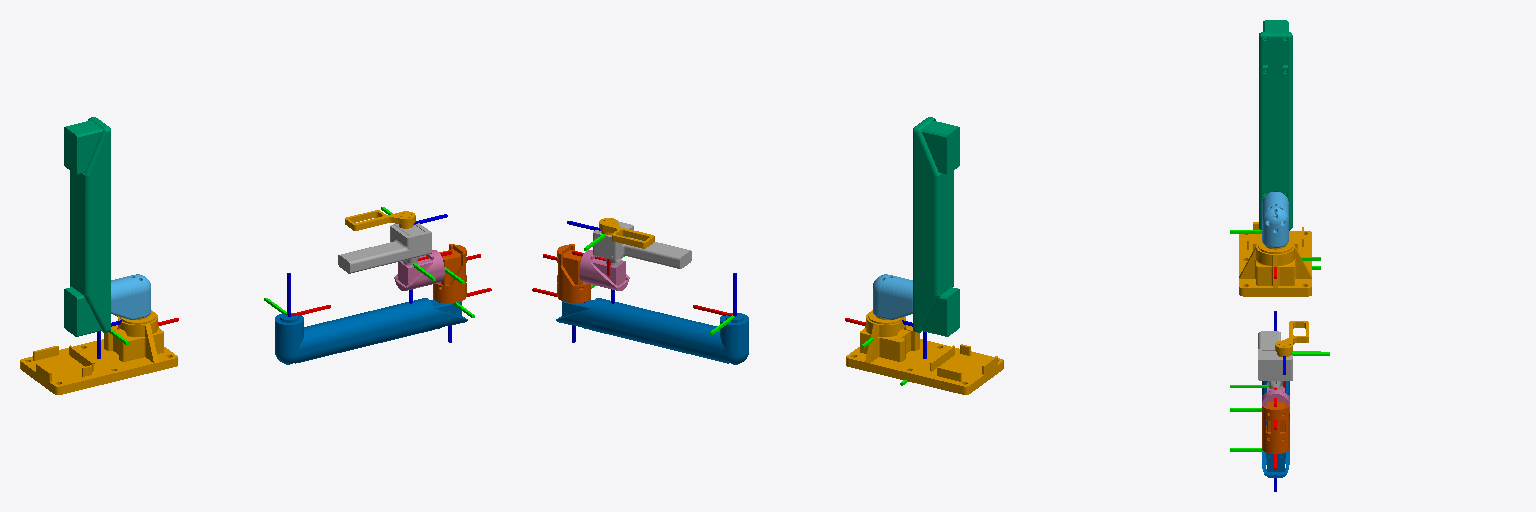
robot.urdf — GELLO_Assembly_URDF_V4:
<?xml version='1.0' encoding='utf-8'?>
<robot 
    name="GELLO_Assembly_URDF_V4">
    <!-- Debug visuals: small XYZ axes on each link frame (X=red, Y=green, Z=blue) -->
    <material name="frame_x_red">
        <color rgba="1 0 0 1" />
    </material>
    <material name="frame_y_green">
        <color rgba="0 1 0 1" />
    </material>
    <material name="frame_z_blue">
        <color rgba="0 0 1 1" />
    </material>
    <link name="base_link">
        <inertial>
            <origin 
                xyz="0.012101145839417736 4.5485259978825654e-05 0.012837746339482453" 
                rpy="0.0 0.0 0.0" />
            <mass 
                value="0.1521" />
            <inertia 
                ixx="0.000787615441049584" 
                iyy="0.0026373975037422373" 
                izz="0.0030248527508061783" 
                ixy="2.843446005017187e-06" 
                iyz="-1.23281289165201e-07" 
                ixz="-0.0003208037873725998" />
        </inertial>
        <visual 
            name="base_link_visual">
            <origin 
                xyz="0.0 0.0 0.0" 
                rpy="0.0 0.0 0.0" />
            <geometry>
                <mesh 
                    filename="meshes/base_link.stl" 
                    scale="0.001 0.001 0.001" />
            </geometry>
        </visual>
        <collision name="base_link_collision">
            <origin 
                xyz="0.0 0.0 0.0" 
                rpy="0.0 0.0 0.0" />
            <geometry>
                <mesh 
                    filename="meshes/base_link.stl" 
                    scale="0.001 0.001 0.001" />
            </geometry>
        </collision>

        <!-- Frame axes (0.05m long, 0.003m thick) -->
        <visual name="base_link_frame_x">
            <origin xyz="0.025 0 0" rpy="0 0 0" />
            <geometry><box size="0.05 0.003 0.003" /></geometry>
            <material name="frame_x_red" />
        </visual>
        <visual name="base_link_frame_y">
            <origin xyz="0 0.025 0" rpy="0 0 0" />
            <geometry><box size="0.003 0.05 0.003" /></geometry>
            <material name="frame_y_green" />
        </visual>
        <visual name="base_link_frame_z">
            <origin xyz="0 0 0.025" rpy="0 0 0" />
            <geometry><box size="0.003 0.003 0.05" /></geometry>
            <material name="frame_z_blue" />
        </visual>
    </link>
    <link name="link_1">
        <inertial>
            <origin 
                xyz="-0.013013992085734394 -2.9083198717770166e-09 0.037938028629702227" 
                rpy="0.0 -0.0 0.0" />
            <mass 
                value="0.01753" />
            <inertia 
                ixx="2.082359703239737e-05" 
                iyy="3.448540701715534e-05" 
                izz="2.4147887405375526e-05" 
                ixy="2.1787401641000033e-12" 
                iyz="2.850834935600783e-12" 
                ixz="5.385388631231556e-06" />
        </inertial>
        <visual 
            name="link_1_visual">
            <origin 
                xyz="0.0 -1.4901160552385793e-10 0.003000000000000016" 
                rpy="0.0 0.0 3.141592653589793" />
            <geometry>
                <mesh 
                    filename="meshes/link_1.stl" 
                    scale="0.001 0.001 0.001" />
            </geometry>
        </visual>
        <collision 
            name="link_1_collision">
            <origin 
                xyz="0.0 -1.4901160552385793e-10 0.003000000000000016" 
                rpy="0.0 0.0 3.141592653589793" />
            <geometry>
                <mesh 
                    filename="meshes/link_1.stl" 
                    scale="0.001 0.001 0.001" />
            </geometry>
        </collision>

        <!-- Frame axes -->
        <visual name="link_1_frame_x">
            <origin xyz="0.025 0 0" rpy="0 0 0" />
            <geometry><box size="0.05 0.003 0.003" /></geometry>
            <material name="frame_x_red" />
        </visual>
        <visual name="link_1_frame_y">
            <origin xyz="0 0.025 0" rpy="0 0 0" />
            <geometry><box size="0.003 0.05 0.003" /></geometry>
            <material name="frame_y_green" />
        </visual>
        <visual name="link_1_frame_z">
            <origin xyz="0 0 0.025" rpy="0 0 0" />
            <geometry><box size="0.003 0.003 0.05" /></geometry>
            <material name="frame_z_blue" />
        </visual>
    </link>
    <joint 
        name="base_link_joint_1" 
        type="revolute">
        <origin 
            xyz="0.04725 0.0 0.033" 
            rpy="0.0 -0.0 0.0" />
        <parent 
            link="base_link" />
        <child 
            link="link_1" />
        <axis 
            xyz="0.0 0.0 1.0" />
        <limit 
            lower="-3.14159" 
            upper="3.14159" 
            effort="1.0" 
            velocity="10" />
    </joint>
    <link name="link_2">
        <inertial>
            <origin 
                xyz="0.018566 0.000228 0.106619" 
                rpy="0.0 0.0 0.0" />
            <mass 
                value="0.45" />
            <inertia 
                ixx="0.00268984" 
                ixy="-1.90105e-06" 
                ixz="2.46637e-04" 
                iyy="0.00289029" 
                iyz="-3.39134e-06" 
                izz="0.00029357" />
        </inertial>
        <visual 
            name="link_2_visual">
            <origin 
                xyz="0.0 0.0 0.0" 
                rpy="0 -1.57079632679 3.141592653589793" />
            <geometry>
                <mesh 
                    filename="meshes/link_2.stl" 
                    scale="0.001 0.001 0.001" />
            </geometry>
        </visual>
        <collision 
            name="link_2_collision">
            <origin 
                xyz="0.0 0.0 0.0" 
                rpy="0 -1.57079632679 3.141592653589793" />
            <geometry>
                <mesh 
                    filename="meshes/link_2.stl" 
                    scale="0.001 0.001 0.001" />
            </geometry>
        </collision>

        <!-- Frame axes -->
        <visual name="link_2_frame_x">
            <origin xyz="0.025 0 0" rpy="0 0 0" />
            <geometry><box size="0.05 0.003 0.003" /></geometry>
            <material name="frame_x_red" />
        </visual>
        <visual name="link_2_frame_y">
            <origin xyz="0 0.025 0" rpy="0 0 0" />
            <geometry><box size="0.003 0.05 0.003" /></geometry>
            <material name="frame_y_green" />
        </visual>
        <visual name="link_2_frame_z">
            <origin xyz="0 0 0.025" rpy="0 0 0" />
            <geometry><box size="0.003 0.003 0.05" /></geometry>
            <material name="frame_z_blue" />
        </visual>
    </link>

    <link name="link_2_extra_mass">
        <inertial>
            <origin xyz="0.17 0 -0.35" rpy="0 0 0" />
            <mass value="0.226263" />
            <inertia ixx="0" ixy="0" ixz="0" iyy="0" iyz="0" izz="0" />
        </inertial>
    </link>

    <joint name="link_2_extra_mass_joint" type="fixed">
        <origin xyz="0 0 0" rpy="0 0 0" />
        <parent link="link_2" />
        <child link="link_2_extra_mass" />
    </joint>
    <joint 
        name="link_2_joint_2" 
        type="revolute">
        <origin 
            xyz="-0.04109700000000001 8.93885791302459e-05 0.013141463219374261" 
            rpy="-3.141592653589793 -1.5707963267948966 0" />
        <parent 
            link="link_1" />
        <child 
            link="link_2" />
        <axis 
            xyz="0.0 -0.0 -1.0" />
        <limit 
            lower="-3.14159" 
            upper="3.14159" 
            effort="3.5" 
            velocity="10" />
    </joint>
    <link name="link_3">
        <inertial>
            <origin 
                xyz="0.03498 0.00004 0.09722" 
                rpy="0.0 -0.0 0.0" />
            <mass 
                value="0.25" />
            <inertia 
                ixx="6.70e-04" 
                iyy="1.87e-03" 
                izz="1.24e-03" 
                ixy="-2.43e-07" 
                iyz="-1.74e-07" 
                ixz="4.88e-04" />
        </inertial>
        <visual 
            name="link_3_visual">
            <origin 
                xyz="-0.015499997823088344 -1.7002665094779935e-09 -0.0029875020980838093" 
                rpy="-3.141592653589793 -1.5707963267948515 0" />
            <geometry>
                <mesh 
                    filename="meshes/link_3.stl" 
                    scale="0.001 0.001 0.001" />
            </geometry>
        </visual>
        <collision 
            name="link_3_collision">
            <origin 
                xyz="-0.015499997823088344 -1.7002665094779935e-09 -0.0029875020980838093" 
                rpy="-3.141592653589793 -1.5707963267948515 0" />
            <geometry>
                <mesh 
                    filename="meshes/link_3.stl" 
                    scale="0.001 0.001 0.001" />
            </geometry>
        </collision>

        <!-- Frame axes -->
        <visual name="link_3_frame_x">
            <origin xyz="0.025 0 0" rpy="0 0 0" />
            <geometry><box size="0.05 0.003 0.003" /></geometry>
            <material name="frame_x_red" />
        </visual>
        <visual name="link_3_frame_y">
            <origin xyz="0 0.025 0" rpy="0 0 0" />
            <geometry><box size="0.003 0.05 0.003" /></geometry>
            <material name="frame_y_green" />
        </visual>
        <visual name="link_3_frame_z">
            <origin xyz="0 0 0.025" rpy="0 0 0" />
            <geometry><box size="0.003 0.003 0.05" /></geometry>
            <material name="frame_z_blue" />
        </visual>
    </link>
    <joint 
        name="link_2_joint_3" 
        type="revolute">
        <origin 
            xyz="-0.04109700000000001 -1.4208697541456816e-09 0.22629999321937447" 
            rpy="-3.141592653589793 -1.5707963267948966 0" />
        <parent 
            link="link_2" />
        <child 
            link="link_3" />
        <axis 
            xyz="0.0 -0.0 -1.0" />
        <limit 
            lower="-3.14159" 
            upper="3.14159" 
            effort="3.5" 
            velocity="10" />
    </joint>
    <link name="link_4">
        <inertial>
            <origin 
                xyz="-0.02792 0.00055 -0.00109" 
                    rpy="0.0 -0.0 0.0" />
            <mass 
                value="0.0412" />
            <inertia 
                ixx="1.74e-05" 
                iyy="3.46e-05" 
                izz="2.64e-05" 
                ixy="3.26e-07" 
                iyz="-5.98e-07" 
                ixz="1.12e-05" />
        </inertial>
        <visual 
            name="link_4_visual">
            <origin 
                xyz="2.2236167041000952e-09 1.0978169125673566e-09 -0.002999996757507506" 
                rpy="3.141592653589793 0.0 -3.141592653589793" />
            <geometry>
                <mesh 
                    filename="meshes/link_4.stl" 
                    scale="0.001 0.001 0.001" />
            </geometry>
        </visual>
        <collision 
            name="link_4_collision">
            <origin 
                xyz="2.2236167041000952e-09 1.0978169125673566e-09 -0.002999996757507506" 
                rpy="3.141592653589793 0.0 -3.141592653589793" />
            <geometry>
                <mesh 
                    filename="meshes/link_4.stl" 
                    scale="0.001 0.001 0.001" />
            </geometry>
        </collision>

        <!-- Frame axes -->
        <visual name="link_4_frame_x">
            <origin xyz="0.025 0 0" rpy="0 0 0" />
            <geometry><box size="0.05 0.003 0.003" /></geometry>
            <material name="frame_x_red" />
        </visual>
        <visual name="link_4_frame_y">
            <origin xyz="0 0.025 0" rpy="0 0 0" />
            <geometry><box size="0.003 0.05 0.003" /></geometry>
            <material name="frame_y_green" />
        </visual>
        <visual name="link_4_frame_z">
            <origin xyz="0 0 0.025" rpy="0 0 0" />
            <geometry><box size="0.003 0.003 0.05" /></geometry>
            <material name="frame_z_blue" />
        </visual>
    </link>
    <joint 
        name="link_3_joint_4" 
        type="revolute">
        <origin 
            xyz="0.19610000999999996 0.0 -0.025975" 
            rpy="3.141592653589793 0.0 -0.0" />
        <parent 
            link="link_3" />
        <child 
            link="link_4" />
        <axis 
            xyz="0.0 0.0 -1.0" />
        <limit 
            lower="-3.14159" 
            upper="3.14159" 
            effort="1.0" 
            velocity="10" />
    </joint>
    <link name="link_5">
        <inertial>
            <origin 
                xyz="-0.00091 -0.00014 -0.02400" 
                rpy="0.0 -0.0 0.0" />
            <mass 
                value="0.037" />
            <inertia 
                ixx="8.11e-05" 
                iyy="8.45e-05" 
                izz="1.25e-05" 
                ixy="6.60e-08" 
                iyz="3.94e-06" 
                ixz="6.76e-06" />
        </inertial>
        <visual 
            name="link_5_visual">
            <origin 
                xyz="-0.0029999977763846887 1.097816903963128e-09 2.512335690596501e-09" 
                rpy="0.0 1.5707963267948966 0" />
            <geometry>
                <mesh 
                    filename="meshes/link_5.stl" 
                    scale="0.001 0.001 0.001" />
            </geometry>
        </visual>
        <collision 
            name="link_5_collision">
            <origin 
                xyz="-0.0029999977763846887 1.097816903963128e-09 2.512335690596501e-09" 
                rpy="0.0 1.5707963267948966 0" />
            <geometry>
                <mesh 
                    filename="meshes/link_5.stl" 
                    scale="0.001 0.001 0.001" />
            </geometry>
        </collision>

        <!-- Frame axes -->
        <visual name="link_5_frame_x">
            <origin xyz="0.025 0 0" rpy="0 0 0" />
            <geometry><box size="0.05 0.003 0.003" /></geometry>
            <material name="frame_x_red" />
        </visual>
        <visual name="link_5_frame_y">
            <origin xyz="0 0.025 0" rpy="0 0 0" />
            <geometry><box size="0.003 0.05 0.003" /></geometry>
            <material name="frame_y_green" />
        </visual>
        <visual name="link_5_frame_z">
            <origin xyz="0 0 0.025" rpy="0 0 0" />
            <geometry><box size="0.003 0.003 0.05" /></geometry>
            <material name="frame_z_blue" />
        </visual>
    </link>
    <joint 
        name="link_4_joint_5" 
        type="revolute">
        <origin 
            xyz="-0.01239999999999995 0.0 -0.0425" 
            rpy="0.0 0.0 -0.0" />
        <parent 
            link="link_4" />
        <child 
            link="link_5" />
        <axis 
            xyz="-1.0 0.0 -0.0" />
        <limit 
            lower="-3.14159" 
            upper="3.14159" 
            effort="1.0" 
            velocity="10" />
    </joint>
    <link name="link_6_handle">
        <inertial>
            <origin 
                xyz="-0.02576 -0.00154 -0.01597" 
                rpy="0.0 -0.0 0.0" />
            <mass 
                value="0.0482" />
            <inertia 
                ixx="2.21e-05" 
                iyy="1.48e-04" 
                izz="1.43e-04" 
                ixy="-5.32e-06" 
                iyz="2.59e-06" 
                ixz="2.95e-05" />
        </inertial>
        <visual 
            name="link_6_handle_visual">
            <origin 
                xyz="-0.009999998074407372 -0.001999999244909985 -0.027499997681379087" 
                rpy="3.141592653589793 0.0 1.5707963267948968" />
            <geometry>
                <mesh 
                    filename="meshes/link_6_handle.stl" 
                    scale="0.001 0.001 0.001" />
            </geometry>
        </visual>
        <collision 
            name="link_6_handle_collision">
            <origin 
                xyz="-0.009999998074407372 -0.001999999244909985 -0.027499997681379087" 
                rpy="3.141592653589793 0.0 1.5707963267948968" />
            <geometry>
                <mesh 
                    filename="meshes/link_6_handle.stl" 
                    scale="0.001 0.001 0.001" />
            </geometry>
        </collision>

        <!-- Frame axes -->
        <visual name="link_6_handle_frame_x">
            <origin xyz="0.025 0 0" rpy="0 0 0" />
            <geometry><box size="0.05 0.003 0.003" /></geometry>
            <material name="frame_x_red" />
        </visual>
        <visual name="link_6_handle_frame_y">
            <origin xyz="0 0.025 0" rpy="0 0 0" />
            <geometry><box size="0.003 0.05 0.003" /></geometry>
            <material name="frame_y_green" />
        </visual>
        <visual name="link_6_handle_frame_z">
            <origin xyz="0 0 0.025" rpy="0 0 0" />
            <geometry><box size="0.003 0.003 0.05" /></geometry>
            <material name="frame_z_blue" />
        </visual>
    </link>
    <joint 
        name="link_5_joint_6" 
        type="revolute">
        <origin 
            xyz="-0.035500000000000045 0.0 -0.012000000000000002" 
            rpy="0.0 -0.0 0.0" />
        <parent 
            link="link_5" />
        <child 
            link="link_6_handle" />
        <axis 
            xyz="-0.0 -0.0 -1.0" />
        <limit 
            lower="-3.14159" 
            upper="3.14159" 
            effort="1.0" 
            velocity="10" />
    </joint>
    <link name="link_7_trigger">
        <inertial>
            <origin 
                xyz="-0.008247223911074358 0.0078024108281084 -0.02009706810131938" 
                rpy="0.0 -0.0 0.0" />
            <mass 
                value="0.01" />
            <inertia 
                ixx="4.999616537776233e-06" 
                iyy="4.199309723437305e-06" 
                izz="8.93301210709044e-07" 
                ixy="2.1985308491140646e-08" 
                iyz="1.2021398752401404e-06" 
                ixz="-5.662878198282135e-08" />
        </inertial>
        <visual 
            name="link_7_trigger_visual">
            <origin 
                xyz="-0.007999997681379174 -7.550898972752407e-10 1.9851977839380197e-09" 
                rpy="1.5707963267948717 -1.5707963267948966 0" />
            <geometry>
                <mesh 
                    filename="meshes/link_7_trigger.stl" 
                    scale="0.001 0.001 0.001" />
            </geometry>
        </visual>
        <collision 
            name="link_7_trigger_collision">
            <origin 
                xyz="-0.007999997681379174 -7.550898972752407e-10 1.9851977839380197e-09" 
                rpy="1.5707963267948717 -1.5707963267948966 0" />
            <geometry>
                <mesh 
                    filename="meshes/link_7_trigger.stl" 
                    scale="0.001 0.001 0.001" />
            </geometry>
        </collision>

        <!-- Frame axes -->
        <visual name="link_7_trigger_frame_x">
            <origin xyz="0.025 0 0" rpy="0 0 0" />
            <geometry><box size="0.05 0.003 0.003" /></geometry>
            <material name="frame_x_red" />
        </visual>
        <visual name="link_7_trigger_frame_y">
            <origin xyz="0 0.025 0" rpy="0 0 0" />
            <geometry><box size="0.003 0.05 0.003" /></geometry>
            <material name="frame_y_green" />
        </visual>
        <visual name="link_7_trigger_frame_z">
            <origin xyz="0 0 0.025" rpy="0 0 0" />
            <geometry><box size="0.003 0.003 0.05" /></geometry>
            <material name="frame_z_blue" />
        </visual>
    </link>
    <joint 
        name="link_6_handle_gripper" 
        type="revolute">
        <origin 
            xyz="0.0 -0.0095 -0.03899999999999999" 
            rpy="-3.141592653589793 -1.5707963267948966 0" />
        <parent 
        link="link_6_handle" />
        <child 
            link="link_7_trigger" />
        <axis 
            xyz="-1.0 0.0 -0.0" />
        <limit 
            lower="-3.14159" 
            upper="3.14159" 
            effort="1.0" 
            velocity="10" />
    </joint>
</robot>

--- Facts derived from the render (not from the file) ---
The picture shows the robot from 3 angles, left to right: view 1: azimuth 30°, elevation 25°; view 2: azimuth 150°, elevation 25°; view 3: azimuth 270°, elevation 25°; orthographic projection.
Model GELLO_Assembly_URDF_V4 with 9 links and 8 joints (7 revolute, 1 fixed), rooted at base_link, posed all joints at 0.
Visible links, largest first — view 1: link_2, link_3, base_link, link_6_handle, link_1, link_4, link_5, link_7_trigger; view 2: link_2, link_3, base_link, link_6_handle, link_1, link_4, link_5, link_7_trigger; view 3: link_2, base_link, link_6_handle, link_4, link_1, link_7_trigger, link_3.
Link boxes in pixels (x1,y1,x2,y2): link_2: (64, 117, 128, 344); link_3: (264, 273, 467, 364); base_link: (20, 310, 177, 394); link_6_handle: (338, 223, 451, 303); link_1: (111, 274, 178, 325); link_4: (433, 244, 491, 342); link_5: (394, 250, 480, 302); link_7_trigger: (345, 207, 447, 230); link_2: (902, 117, 959, 336); link_3: (556, 273, 748, 364); base_link: (846, 310, 1003, 394); link_6_handle: (572, 221, 691, 303); link_1: (845, 274, 912, 347); link_4: (532, 244, 595, 342); link_5: (543, 250, 629, 302); link_7_trigger: (567, 218, 654, 275); link_2: (1230, 20, 1292, 233); base_link: (1239, 222, 1320, 296); link_6_handle: (1230, 331, 1292, 406); link_4: (1230, 402, 1289, 491); link_1: (1262, 192, 1320, 278); link_7_trigger: (1275, 321, 1329, 392); link_3: (1262, 311, 1320, 477).
Bounding box of the posed robot: 0.5536 × 0.1095 × 0.3566 m (x, y, z).
Meshes: 8 distinct files referenced, 8 mesh visuals loaded (8 binary STL).
